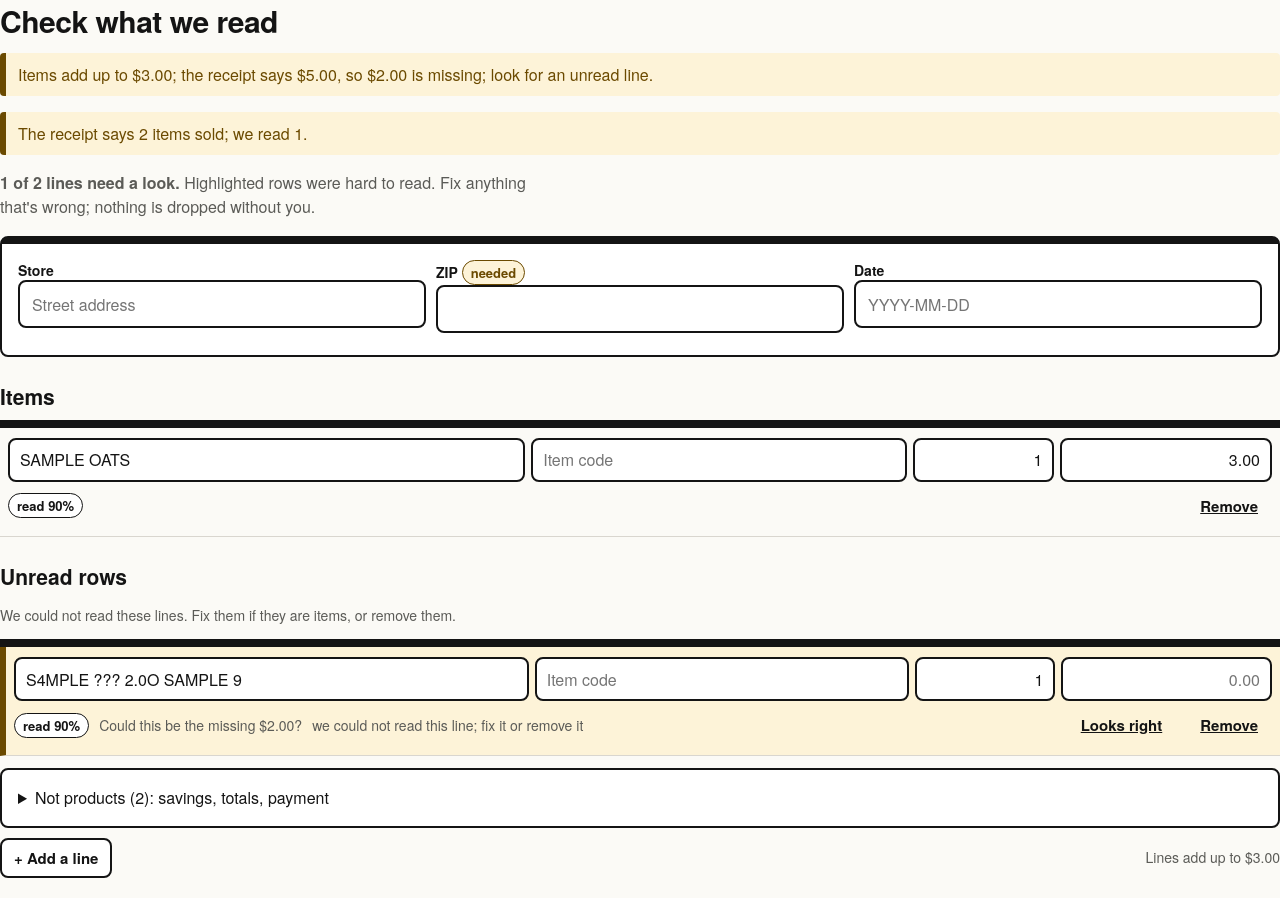
it: self-check and grouped check screen (synthetic) › a missing line shows the gap, highlights unread rows, and the count check speaks up
Expected: the message with test id "recon" shows "Items add up to $3.00; the receipt says $5.00, so $2.00 is missing; look for an unread line.", x1=18 y1=63 x2=653 y2=86
Expected: the text with test id "count-check" reads "The receipt says 2 items sold; we read 1.", x1=0 y1=112 x2=1279 y2=155
Replace the text in the 4th field named "name" with "SAMPLE JAM" at [271, 679], box x1=14 y1=657 x2=529 y2=701
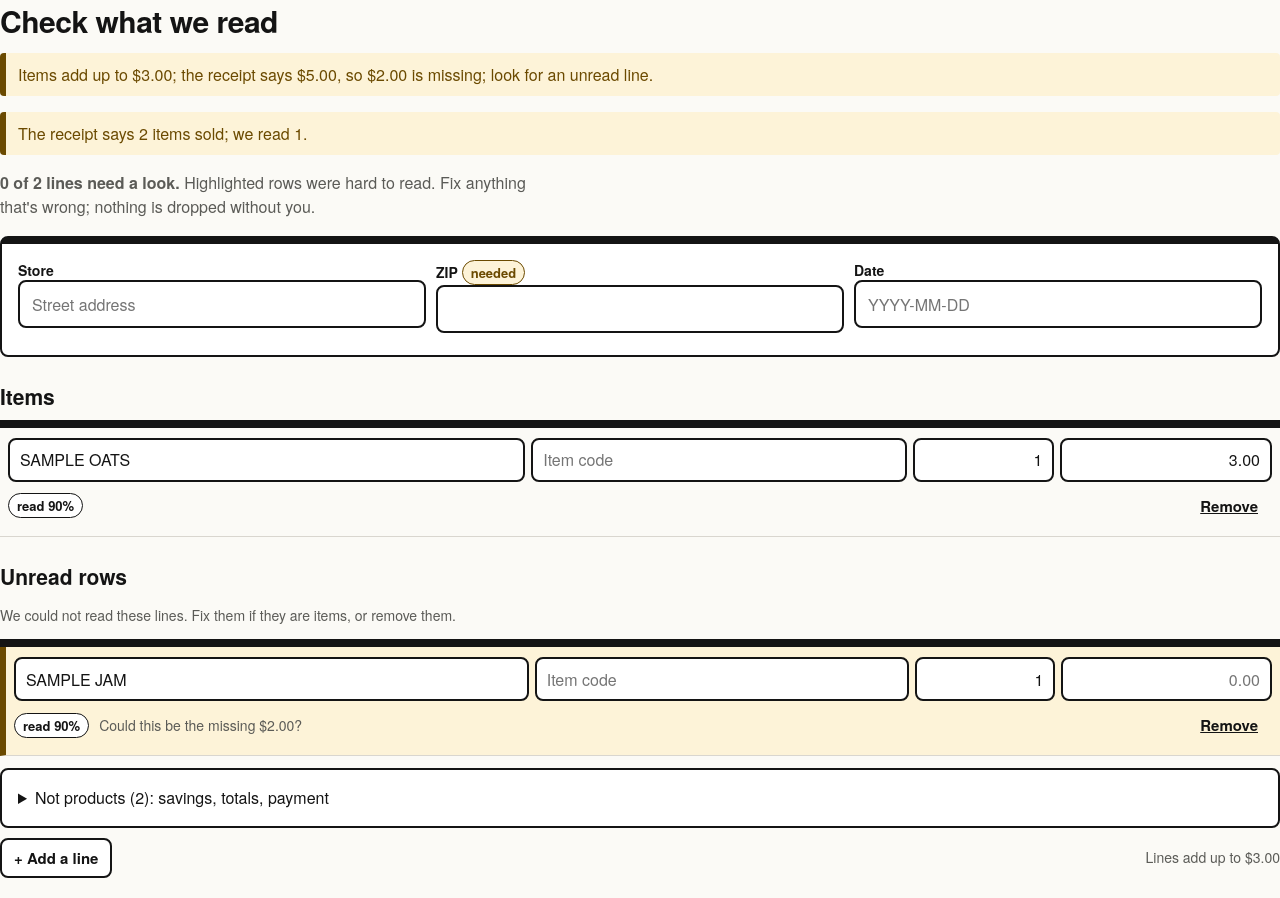
Type "2.00" into the field named "Price" at [1167, 679], box x1=1061 y1=657 x2=1272 y2=701
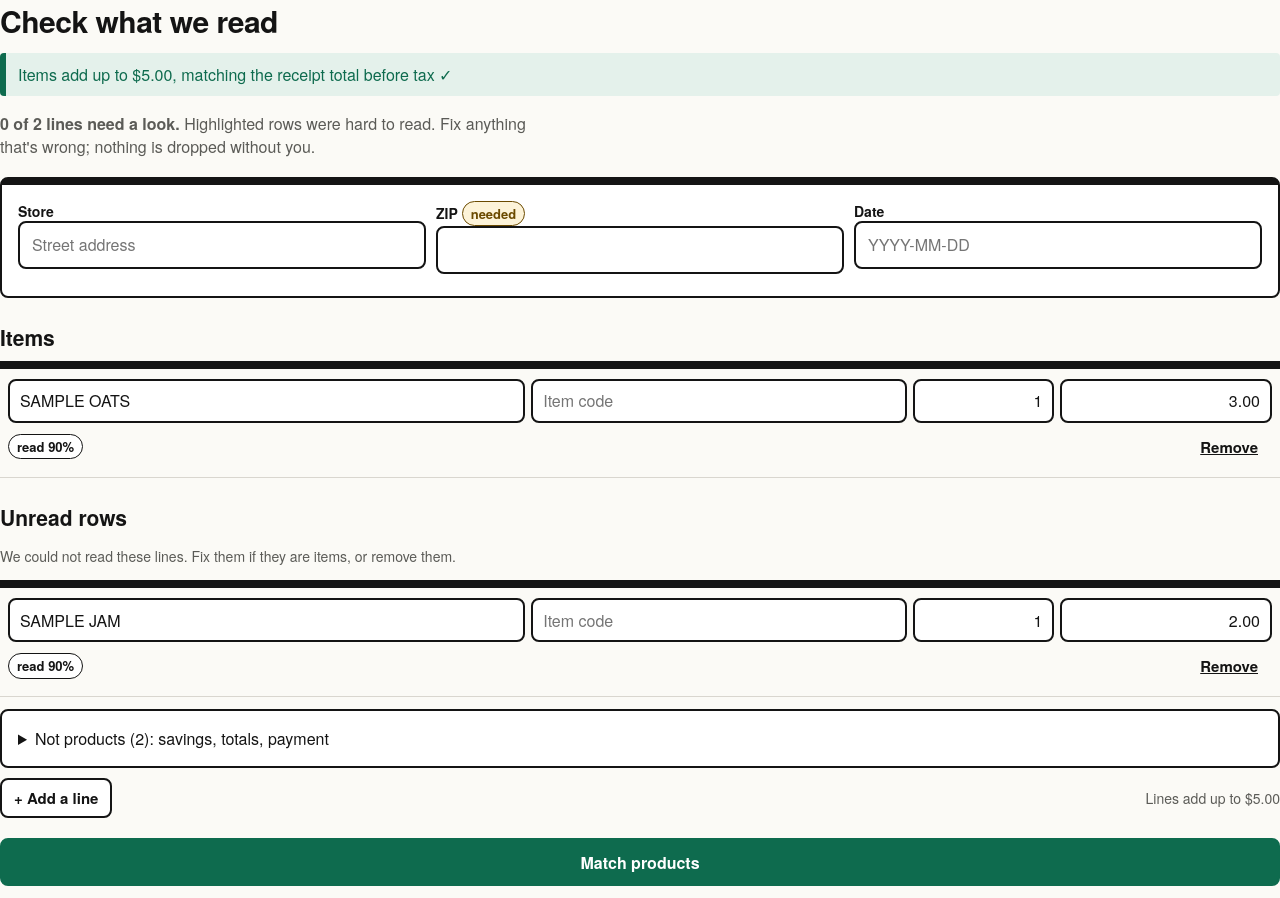
Result: the message with test id "recon" reads "Items add up to $5.00, matching the receipt total before tax ✓" at x1=18 y1=63 x2=452 y2=86
Result: the text with test id "count-check" is gone
